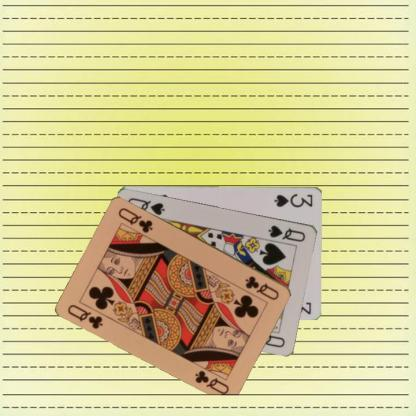3s: (272, 191, 314, 209)
Qc: (65, 301, 105, 330), (243, 272, 280, 302)
Qs: (266, 222, 307, 243)
